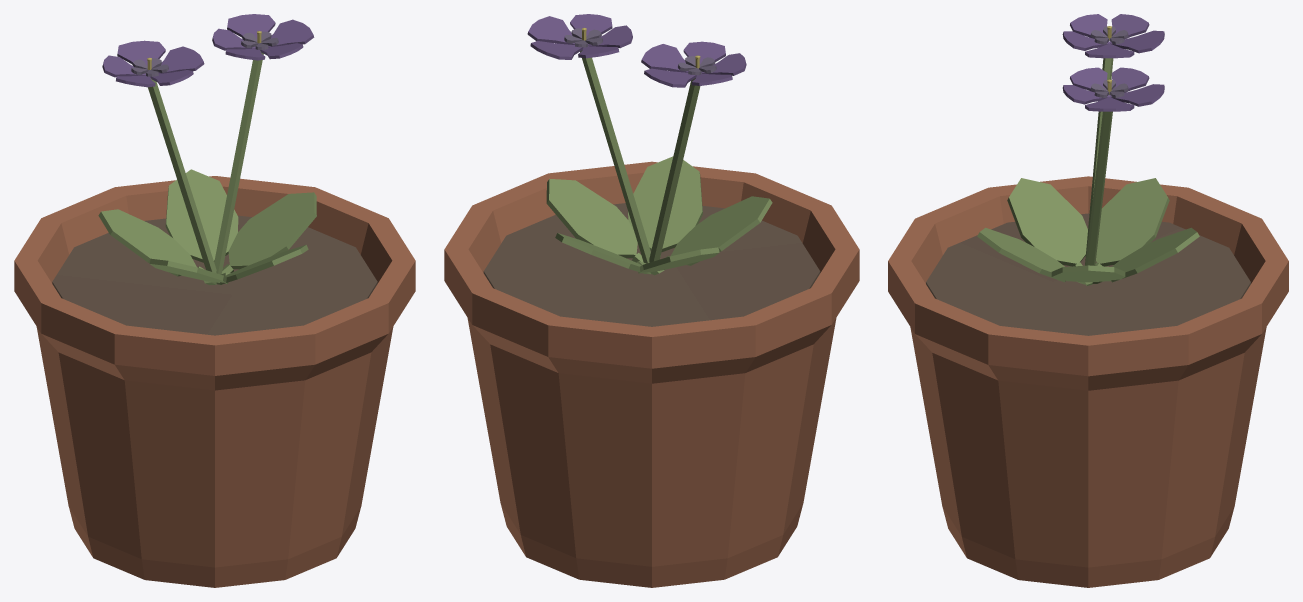
Rendered from pansy.glb.
3 renders of one model, left to right at view 1: azimuth 30°, elevation 25°; view 2: azimuth 150°, elevation 25°; view 3: azimuth 270°, elevation 25°, orthographic. The views are drawn at different scales.
Visible parts, largest first — view 1: pansy/review-terra-vessel, pansy/review-rooted-soil, pansy/leaf-002, pansy/leaf-004, pansy/leaf-006, pansy/petiole-024, pansy/petiole-011, pansy/pansy-petal-013, pansy/pansy-petal-026, pansy/leaf-008, pansy/leaf-010, pansy/pansy-petal-025 (+3 smaller); view 2: pansy/review-terra-vessel, pansy/review-rooted-soil, pansy/leaf-002, pansy/leaf-010, pansy/leaf-008, pansy/petiole-024, pansy/petiole-011, pansy/leaf-006, pansy/pansy-petal-025, pansy/pansy-petal-012, pansy/leaf-004, pansy/pansy-petal-013 (+5 smaller); view 3: pansy/review-terra-vessel, pansy/review-rooted-soil, pansy/leaf-008, pansy/leaf-006, pansy/leaf-004, pansy/leaf-010, pansy/petiole-024, pansy/leaf-002, pansy/pansy-petal-026, pansy/pansy-petal-013, pansy/petiole-011, pansy/pansy-petal-014 (+4 smaller).
Part boxes in pixels (bbox=[...]): pansy/review-terra-vessel: bbox=[14, 176, 415, 587]; pansy/review-rooted-soil: bbox=[52, 215, 377, 335]; pansy/leaf-002: bbox=[228, 192, 316, 269]; pansy/leaf-004: bbox=[165, 169, 238, 262]; pansy/leaf-006: bbox=[98, 209, 196, 276]; pansy/petiole-024: bbox=[214, 51, 263, 274]; pansy/petiole-011: bbox=[148, 78, 216, 272]; pansy/pansy-petal-013: bbox=[117, 40, 165, 66]; pansy/pansy-petal-026: bbox=[227, 14, 275, 39]; pansy/leaf-008: bbox=[149, 258, 228, 283]; pansy/leaf-010: bbox=[220, 244, 308, 284]; pansy/pansy-petal-025: bbox=[268, 19, 314, 47]; pansy/review-terra-vessel: bbox=[444, 161, 859, 587]; pansy/review-rooted-soil: bbox=[483, 203, 820, 326]; pansy/leaf-002: bbox=[546, 178, 637, 258]; pansy/leaf-010: bbox=[628, 156, 702, 251]; pansy/leaf-008: bbox=[671, 196, 772, 265]; pansy/petiole-024: bbox=[580, 50, 650, 263]; pansy/petiole-011: bbox=[649, 78, 700, 262]; pansy/leaf-006: bbox=[638, 247, 719, 273]; pansy/pansy-petal-025: bbox=[527, 16, 574, 44]; pansy/pansy-petal-012: bbox=[641, 44, 688, 72]; pansy/leaf-004: bbox=[555, 233, 646, 274]; pansy/pansy-petal-013: bbox=[644, 68, 696, 87]; pansy/review-terra-vessel: bbox=[888, 176, 1288, 587]; pansy/review-rooted-soil: bbox=[926, 213, 1250, 335]; pansy/leaf-008: bbox=[1007, 178, 1087, 266]; pansy/leaf-006: bbox=[1095, 178, 1169, 266]; pansy/leaf-004: bbox=[1111, 227, 1199, 282]; pansy/leaf-010: bbox=[977, 227, 1065, 282]; pansy/petiole-024: bbox=[1085, 95, 1112, 265]; pansy/leaf-002: bbox=[1051, 265, 1125, 282]; pansy/pansy-petal-026: bbox=[1110, 84, 1164, 106]; pansy/pansy-petal-013: bbox=[1110, 30, 1164, 53]; pansy/petiole-011: bbox=[1085, 58, 1113, 265]; pansy/pansy-petal-014: bbox=[1109, 14, 1149, 43].
Size of the model in its own units: 0.19 by 0.2488 by 0.19.
6 materials, 6 textured.
